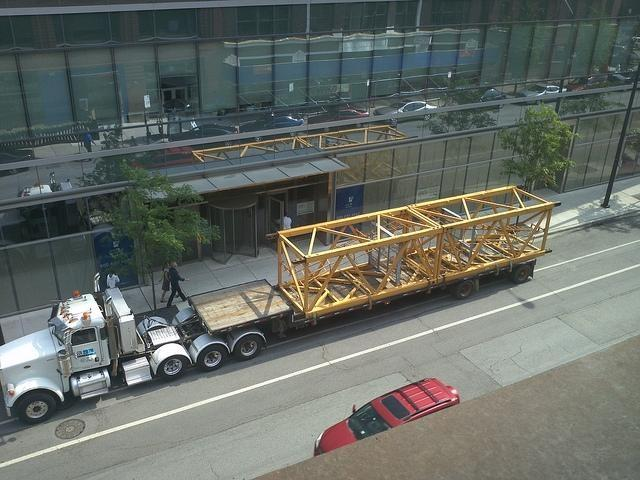car: (314, 376, 460, 461), (239, 113, 304, 144), (131, 147, 204, 172), (306, 108, 371, 134), (372, 100, 437, 125), (167, 124, 238, 142), (18, 179, 72, 197), (564, 74, 612, 91), (524, 82, 560, 96), (478, 88, 508, 102), (608, 73, 634, 84)
truck: (0, 185, 563, 425)
